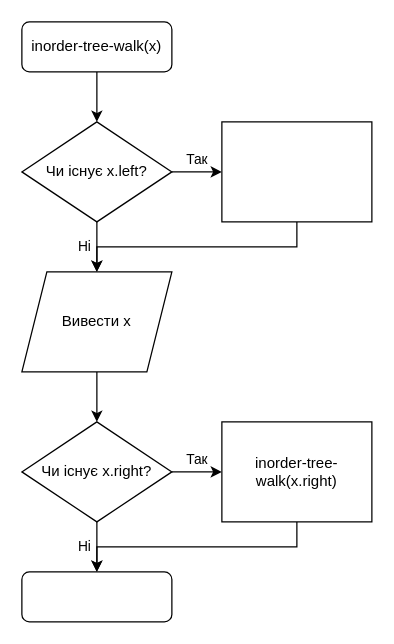
Some shapes in this 394 by 644 pixel diagram are drawn without their labels. The centre of each missing label's shape, as x and y in pixels:
inorder-tree-walk(x.left): point 296,171
кінець: point 96,596
